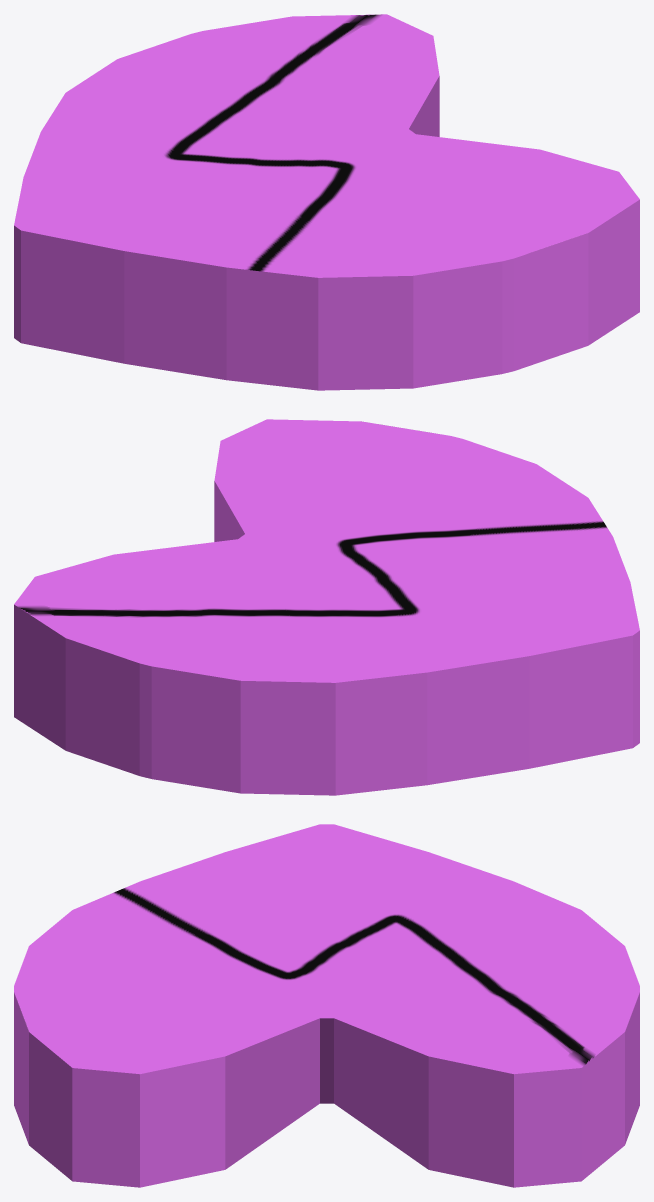
Rendered from Heart Map.glb.
The picture shows the model from 3 angles, top to bottom: view 1: azimuth 30°, elevation 25°; view 2: azimuth 150°, elevation 25°; view 3: azimuth 270°, elevation 25°; orthographic projection.
Visible parts, largest first — view 1: Cube; view 2: Cube; view 3: Cube.
Part boxes in pixels (<box>): Cube: <box>14,14,639,390</box>; Cube: <box>14,419,639,795</box>; Cube: <box>14,824,639,1187</box>.
Bounding box in the file's own units: 1.89 × 0.4 × 2.
1 material, 1 textured.
